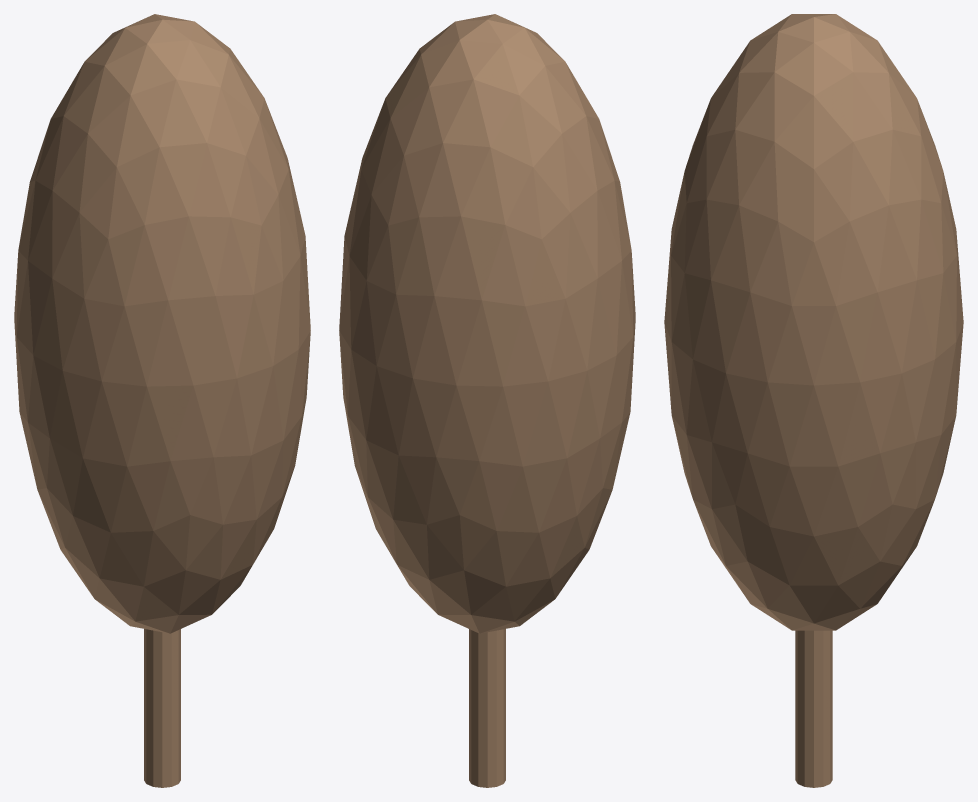
Rendered from Tree_1.glb.
3 views of the same model, side by side, from view 1: azimuth 30°, elevation 25°; view 2: azimuth 150°, elevation 25°; view 3: azimuth 270°, elevation 25° (orthographic).
Parts seen in each view (by area): view 1: Tree_1; view 2: Tree_1; view 3: Tree_1.
Boxes of the visible parts, x1,y1,x2,y2 form: Tree_1: (14,14,310,787); Tree_1: (339,14,635,787); Tree_1: (664,14,963,787).
Bounding box in the file's own units: 1.6 × 4.5 × 1.6.
